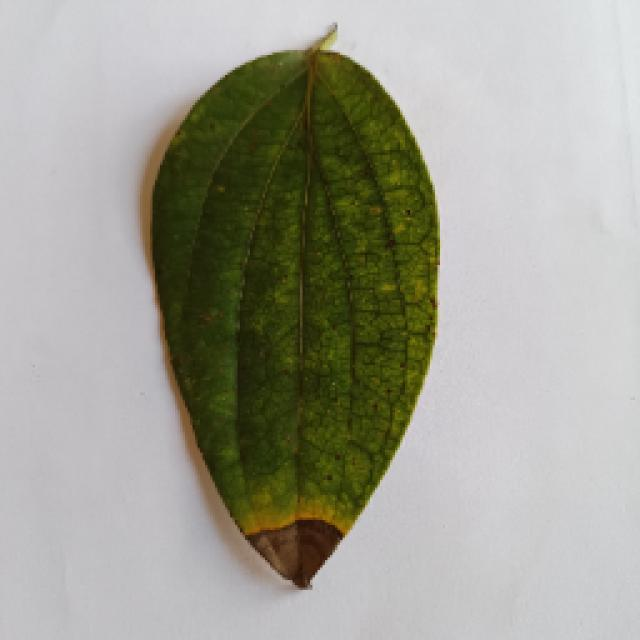footrot: (145, 32, 443, 590)
